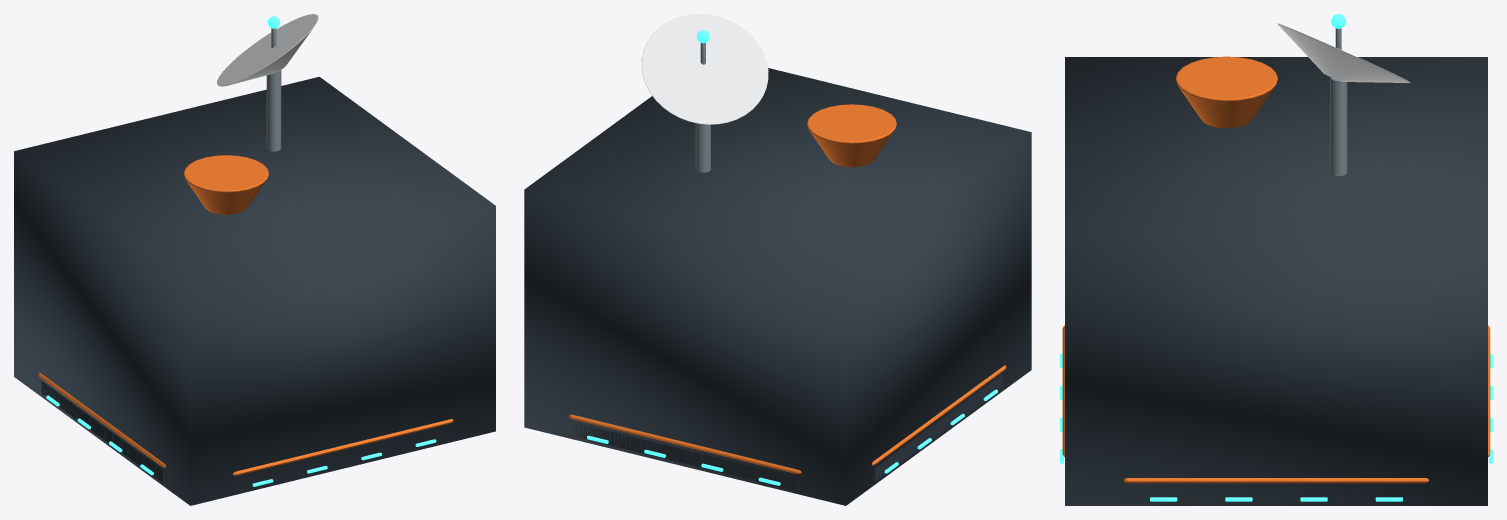
File: container.glb
3 renders of one model, left to right at view 1: azimuth 30°, elevation 25°; view 2: azimuth 150°, elevation 25°; view 3: azimuth 270°, elevation 25°, orthographic. The views are drawn at different scales.
Parts seen in each view (by area): view 1: COL_body, funnel, dish, plinth lip, plinth, mast; view 2: COL_body, dish, plinth, funnel, plinth lip, mast; view 3: COL_body, funnel, plinth lip, dish, mast, plinth.
Part boxes in pixels (box(x1,y1,x2,y2)): COL_body: box(14, 76, 495, 505); funnel: box(183, 155, 268, 214); dish: box(217, 14, 318, 86); plinth lip: box(38, 372, 453, 475); plinth: box(41, 381, 162, 482); mast: box(266, 70, 281, 151); COL_body: box(524, 68, 1031, 505); dish: box(641, 14, 768, 124); plinth: box(574, 374, 1002, 490); funnel: box(807, 104, 896, 167); plinth lip: box(569, 365, 1006, 474); mast: box(695, 123, 710, 172); COL_body: box(1065, 57, 1487, 505); funnel: box(1175, 56, 1277, 128); plinth lip: box(1062, 325, 1490, 483); dish: box(1277, 23, 1410, 82); mast: box(1330, 77, 1347, 175); plinth: box(1131, 487, 1421, 502).
Size of the model in its own units: 3.48 by 3.8 by 3.48.
